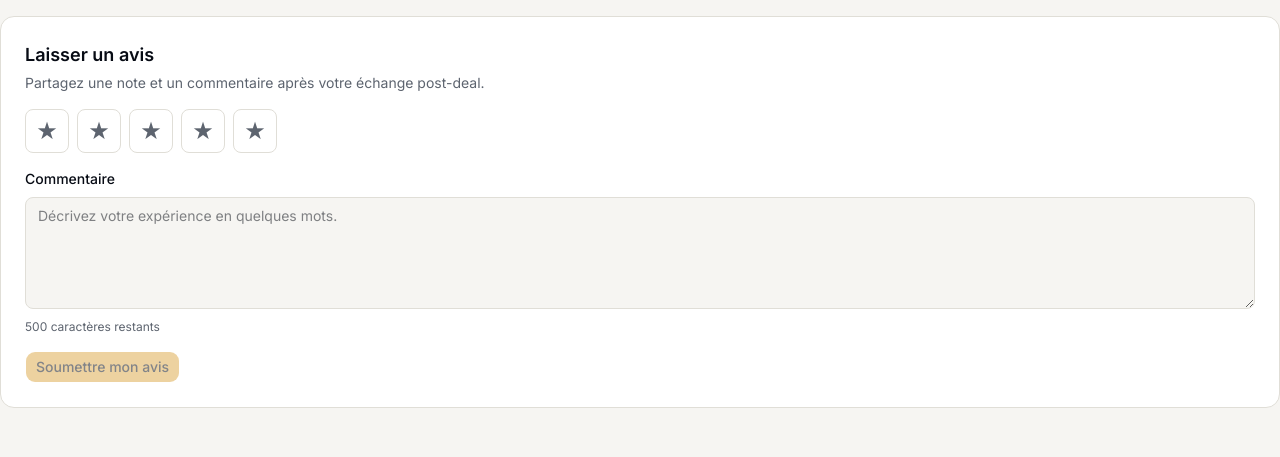
ReviewForm › shows server errors in French
Click the radio button named "4 étoiles": {"x": 203, "y": 131} [181,109,225,153]
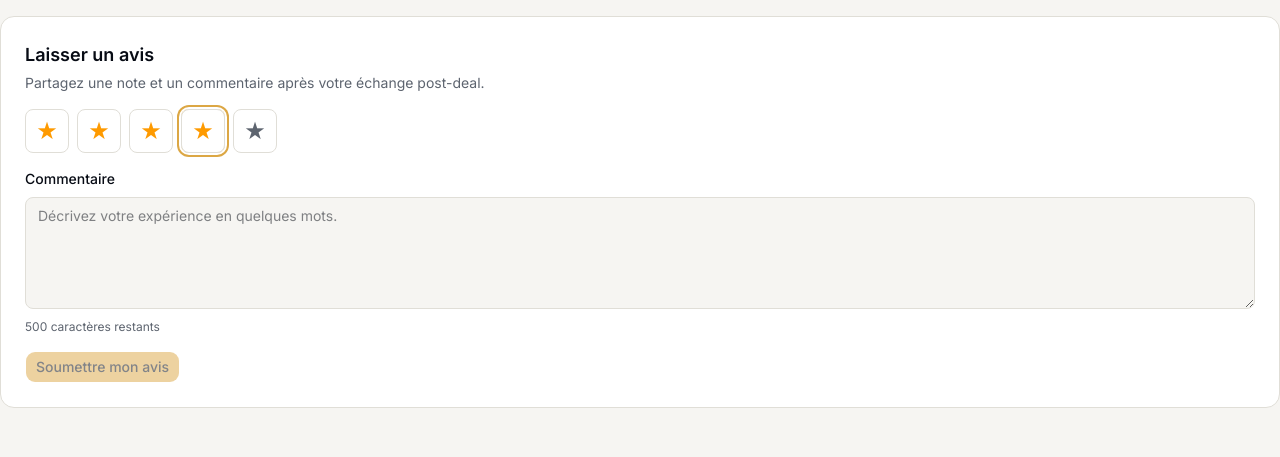
In the text box labelled "Commentaire": {"x": 640, "y": 253} [25,197,1255,309], type "Bon échange"
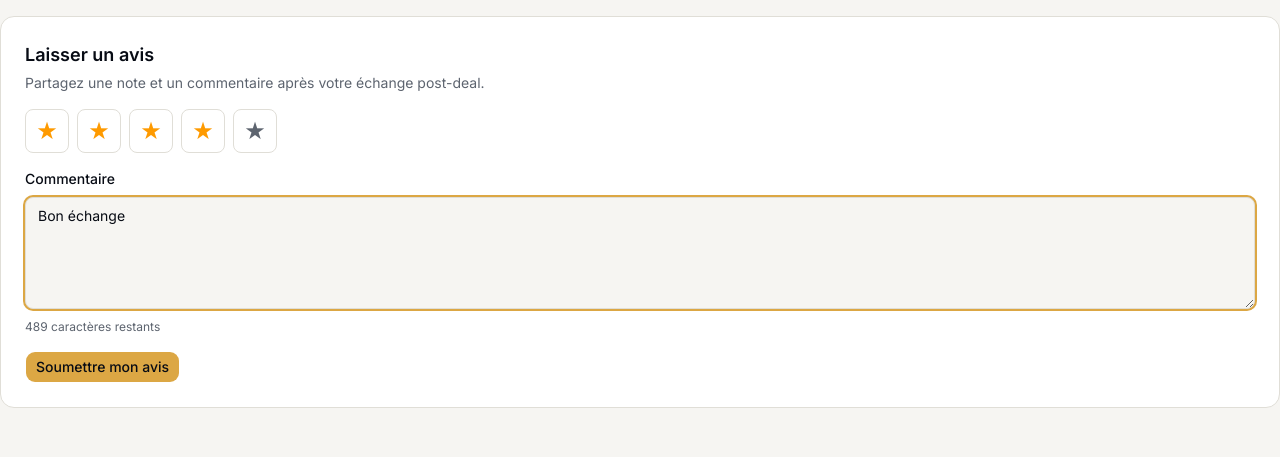
Click the button "Soumettre mon avis": {"x": 103, "y": 367} [25,351,180,383]
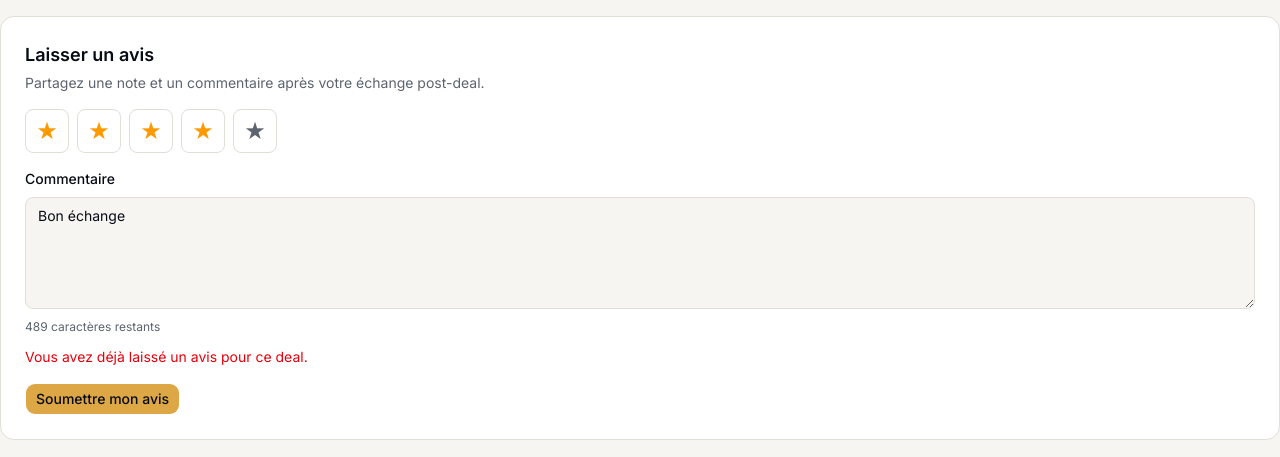
Now the message reads "Vous avez déjà laissé un avis pour ce deal.", box [25,348,308,365]
